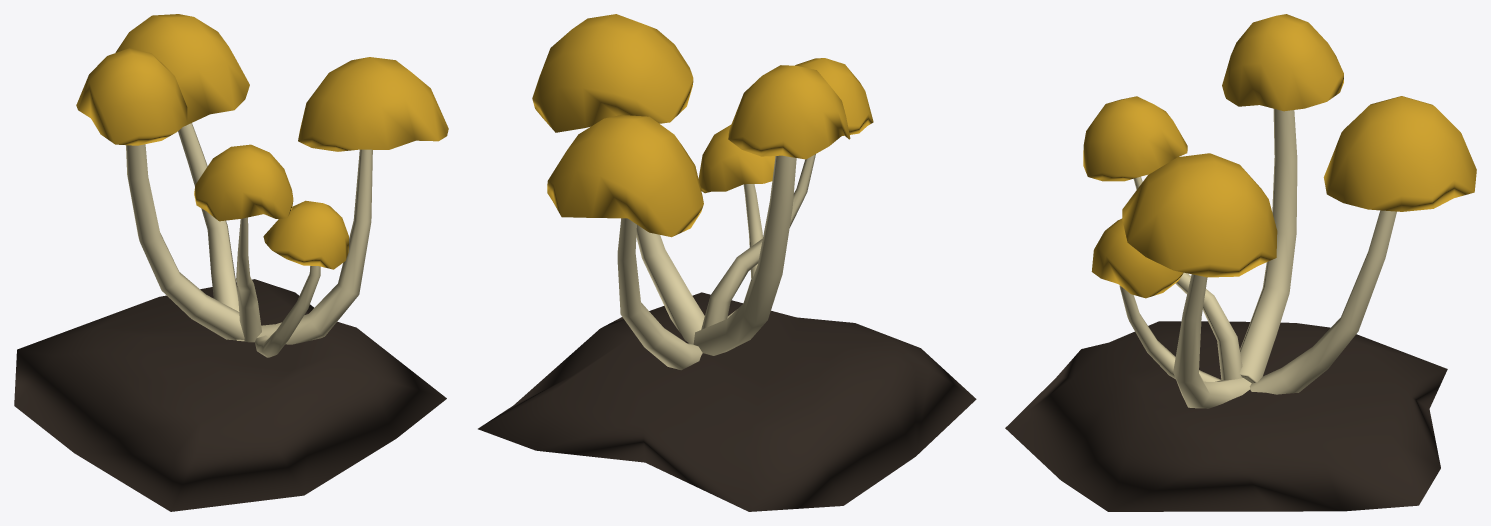
The model's file is mushroom_1.fbx.
3 renders of one model, left to right at view 1: azimuth 30°, elevation 25°; view 2: azimuth 150°, elevation 25°; view 3: azimuth 270°, elevation 25°, orthographic. The views are drawn at different scales.
Parts seen in each view (by area): view 1: Tube; view 2: Tube; view 3: Tube.
Part boxes in pixels (<box>): Tube: <box>14,14,448,511</box>; Tube: <box>478,14,976,511</box>; Tube: <box>1005,14,1476,511</box>.
Bounding box in the file's own units: 8.02 × 7.97 × 8.61.
